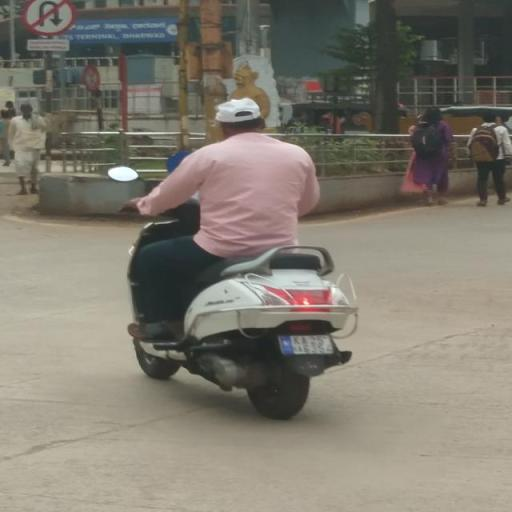bike: (106, 86, 374, 420)
numberplate: (278, 332, 336, 356)
withouthelmet: (216, 98, 262, 132)
